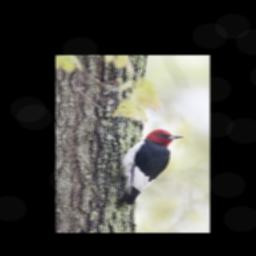Woodpecker: (119, 129, 184, 206)
